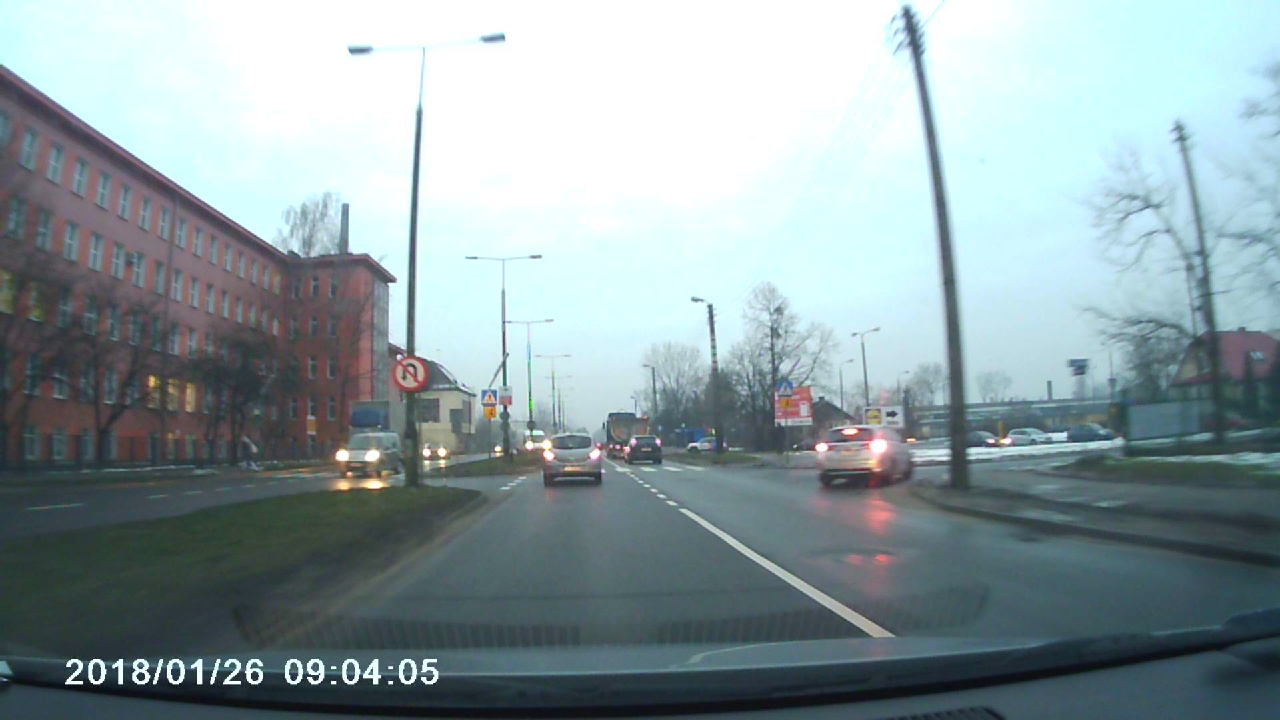B23: (388, 355, 432, 389)
